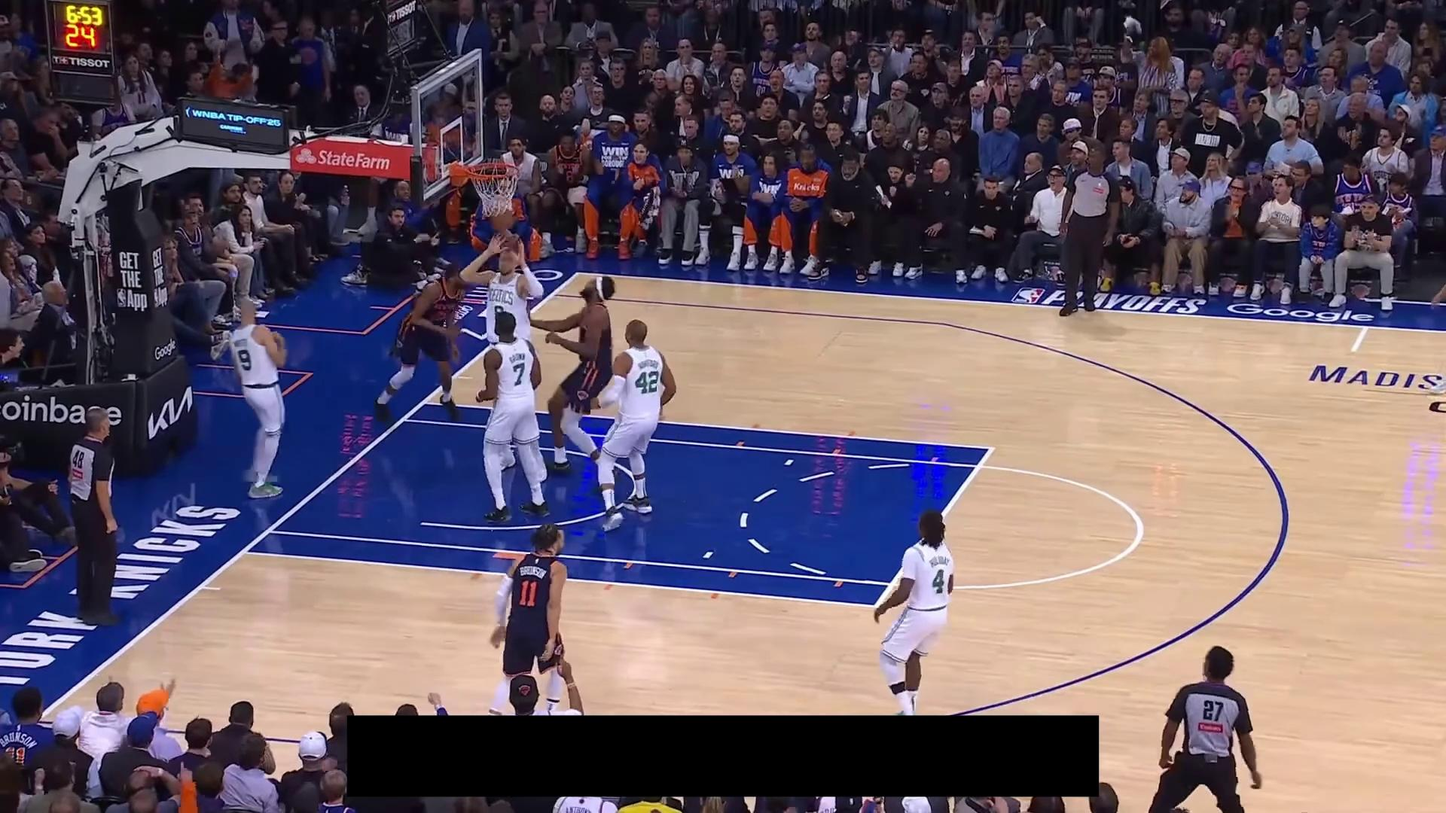ball: (491, 207, 514, 231)
number: (635, 370, 658, 394), (519, 579, 538, 608), (932, 568, 945, 595), (512, 362, 526, 386), (238, 349, 252, 371)
player: (458, 233, 547, 483), (529, 274, 616, 493), (589, 316, 677, 532), (872, 507, 958, 715), (474, 309, 551, 522), (374, 262, 471, 423), (489, 521, 566, 716), (225, 295, 291, 500), (1428, 242, 1446, 399)
referee: (1145, 645, 1263, 813), (66, 406, 124, 626), (1058, 144, 1121, 317)
rim: (465, 161, 519, 179)
